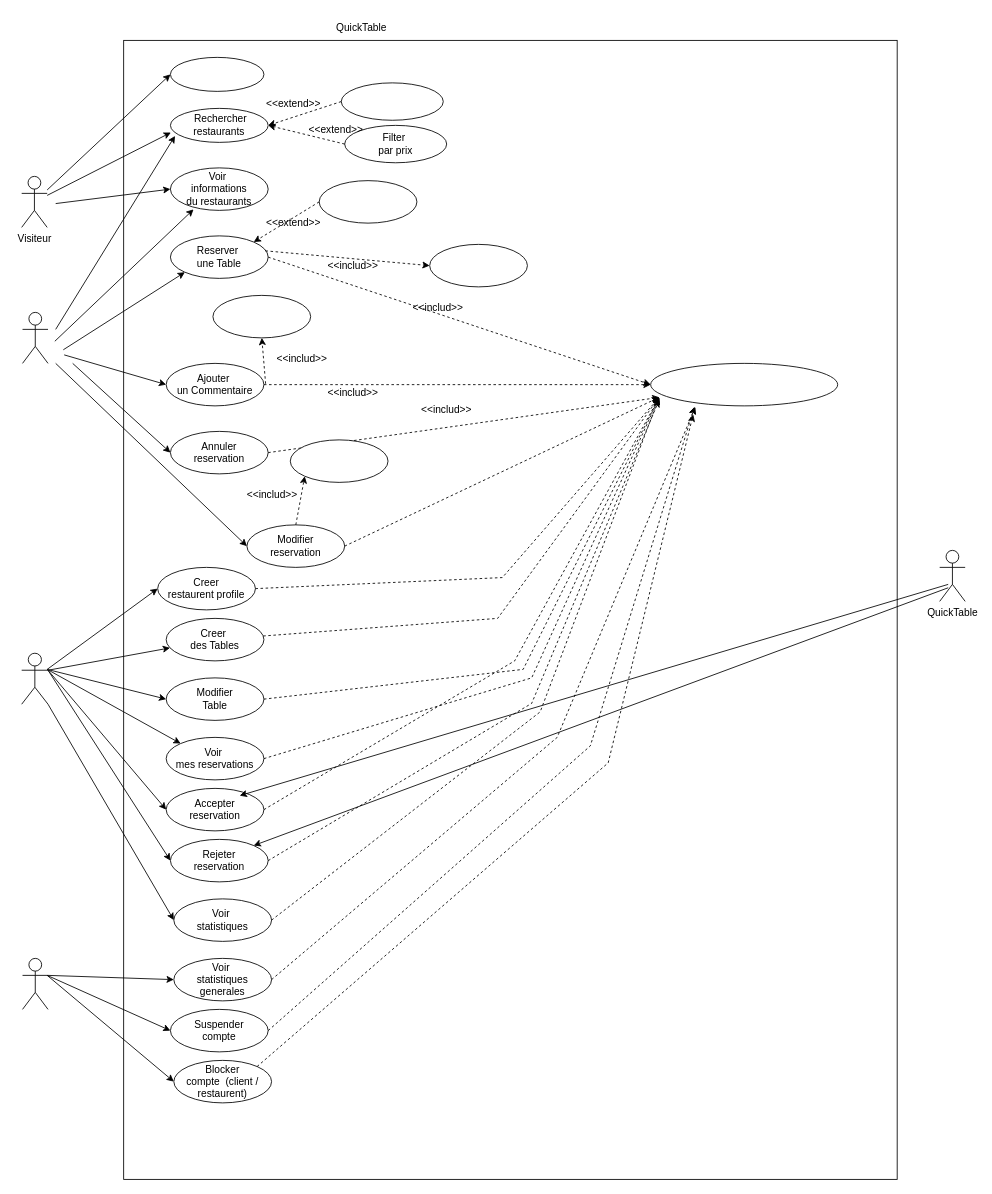
Image size: 992x1194. Some labels were removed from this diagram. Here are the shapes that lost their labels. From the top down, the centre of each, then its label:
At (217,74): "Creer un Compte".
At (391,101): "Filter par localisation".
At (367,201): "Changer formule de table".
At (478,265): "Confirmer reservation".
At (261,316): "Ajouter un Avis".
At (35,337): "Client".
At (744,384): "Authenticated".
At (338,460): "Confirmer modification".
At (34,678): "Manager".
At (35,983): "Admin".
